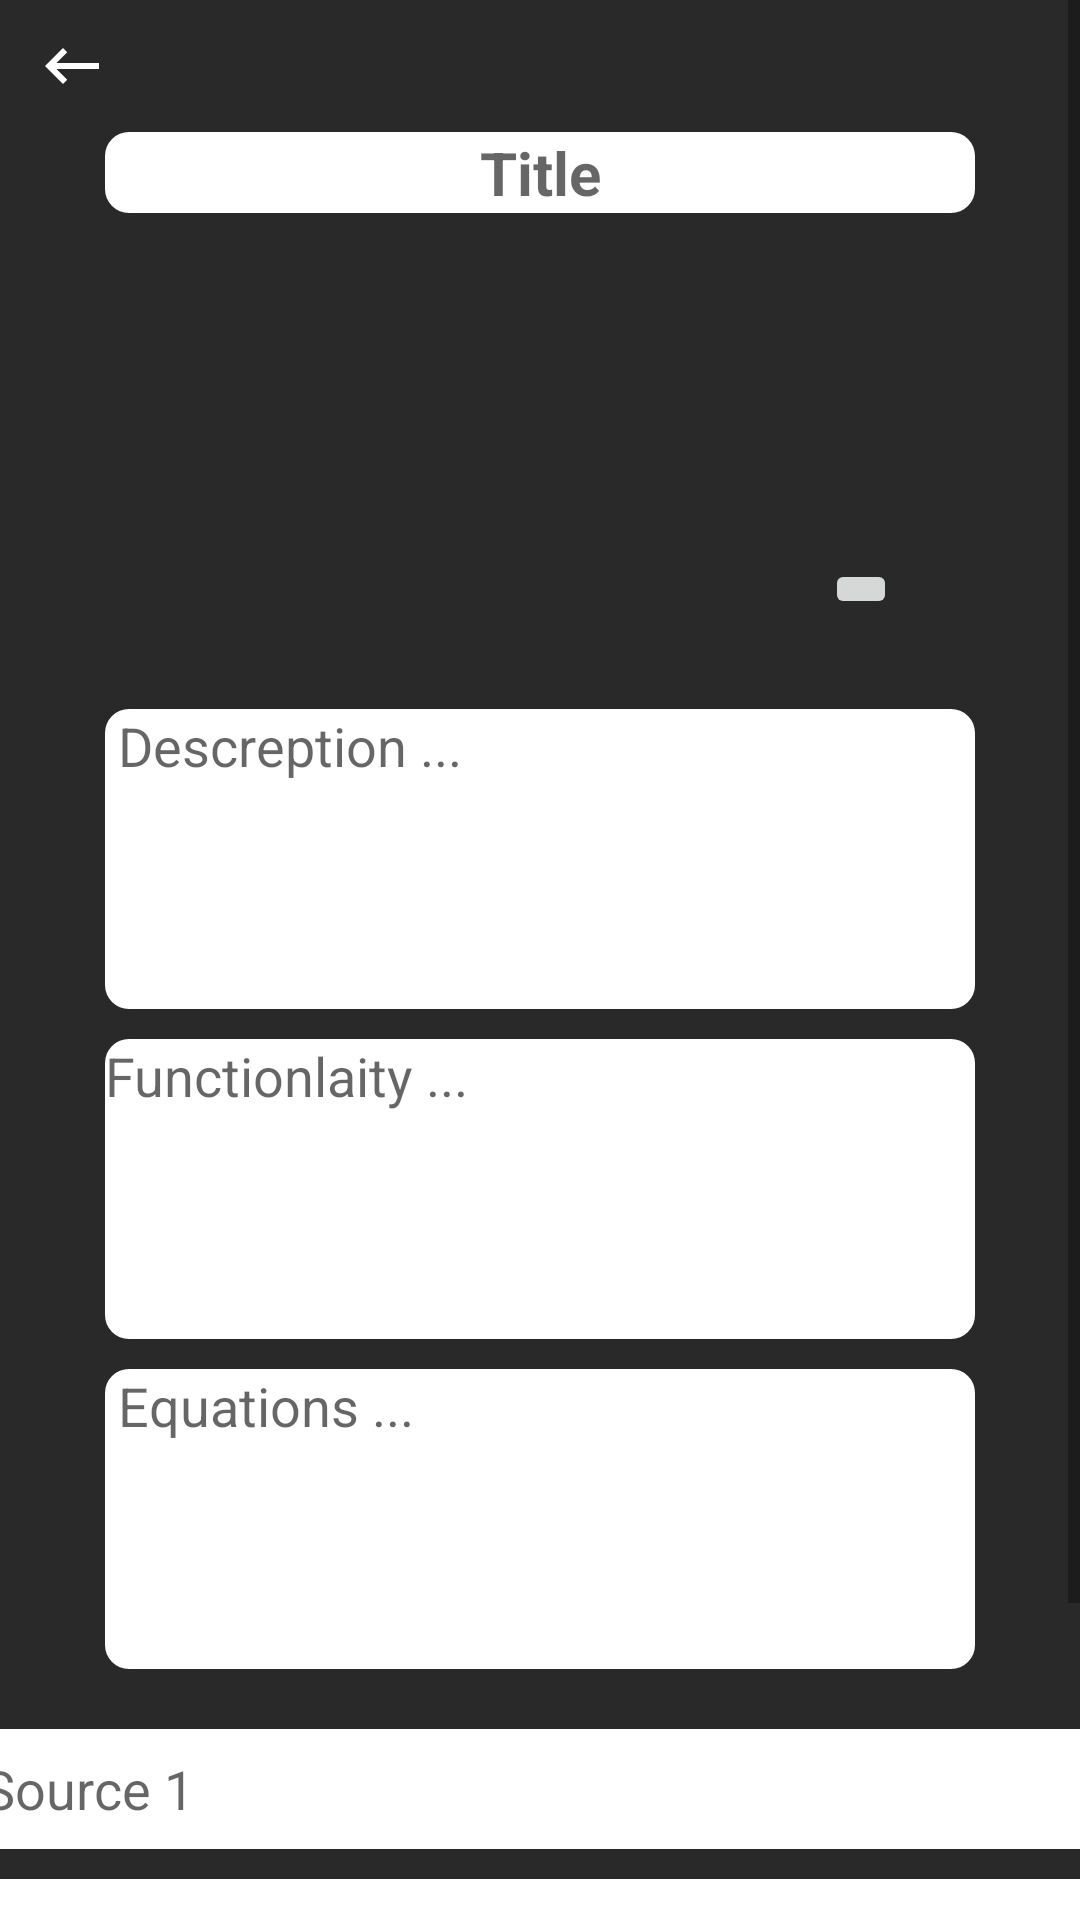

Point at icon controls on the screen. Image size 1080x1920, points as (x,y).
keyboard backspace: (72,66)
